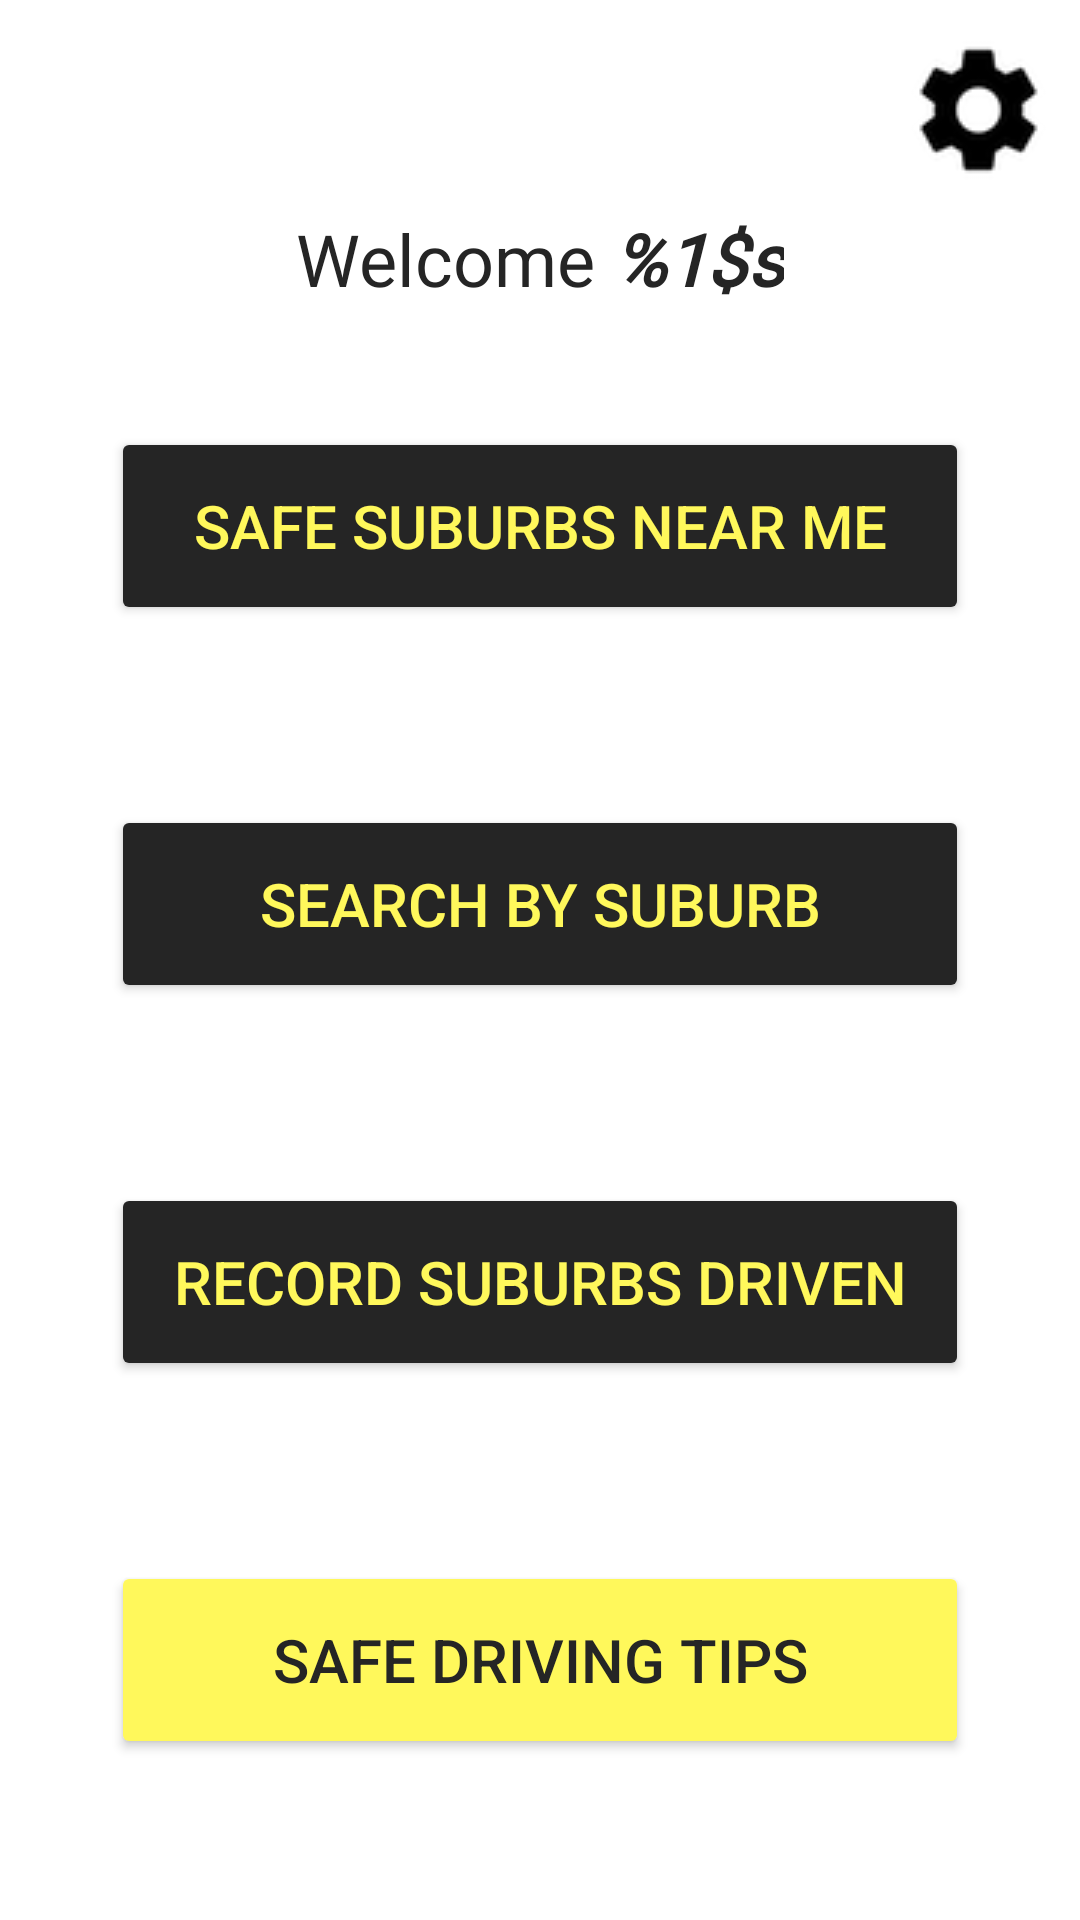

Point at icon controls on the screen. Image size 1080px x 1920px, points as [x,y].
go to settings: [978,110]
